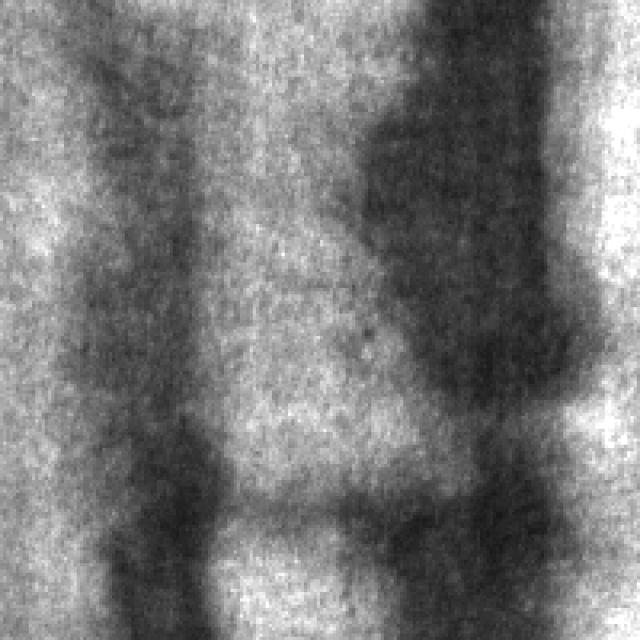patches: (348, 2, 608, 640), (51, 0, 243, 637)
